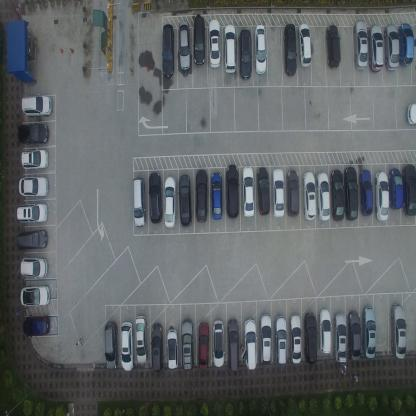car: (390, 302, 406, 360), (367, 23, 384, 73), (21, 91, 52, 118), (148, 174, 164, 226), (352, 20, 368, 72), (177, 174, 192, 229), (282, 23, 297, 78), (132, 176, 147, 230), (401, 163, 416, 217), (103, 320, 119, 370), (237, 27, 252, 80), (332, 311, 347, 364), (374, 168, 389, 221), (225, 163, 239, 219), (194, 168, 208, 224), (344, 165, 358, 221), (243, 318, 258, 370), (259, 311, 273, 366), (226, 318, 240, 373), (383, 23, 399, 71), (192, 14, 206, 68), (303, 311, 317, 364), (362, 306, 376, 359), (330, 168, 344, 221), (180, 318, 194, 371), (17, 122, 49, 145), (161, 24, 174, 80), (302, 170, 316, 222), (16, 229, 49, 251), (398, 22, 414, 67), (325, 25, 341, 70), (242, 163, 255, 218), (347, 310, 361, 361), (120, 320, 134, 371), (20, 283, 51, 306), (16, 202, 48, 224), (256, 165, 270, 215), (20, 254, 48, 279), (275, 313, 288, 366), (388, 167, 404, 210), (286, 168, 300, 217), (272, 166, 285, 218), (290, 312, 303, 364), (207, 18, 220, 70), (317, 170, 330, 222), (135, 313, 148, 365), (18, 175, 48, 197), (210, 171, 223, 221), (178, 22, 191, 72), (212, 319, 225, 369), (22, 314, 50, 337), (21, 147, 49, 170), (360, 168, 373, 217), (150, 323, 163, 372), (164, 178, 176, 230), (254, 22, 266, 74), (318, 307, 331, 355), (197, 321, 209, 371), (298, 22, 311, 67), (224, 23, 235, 74), (166, 328, 179, 370), (406, 102, 416, 127)
